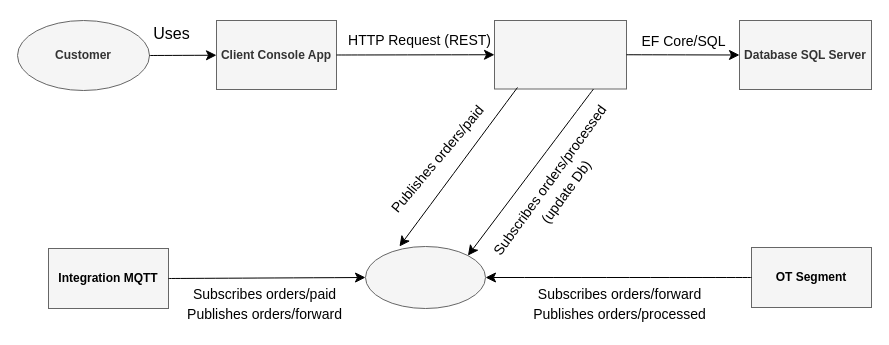
Image size: 889x345. Some labels were removed from this diagram. Each missing label, with the box of its shape:
IT API (Asp.net core): (494, 20, 626, 89)
MQTT Broker: (364, 246, 486, 308)
